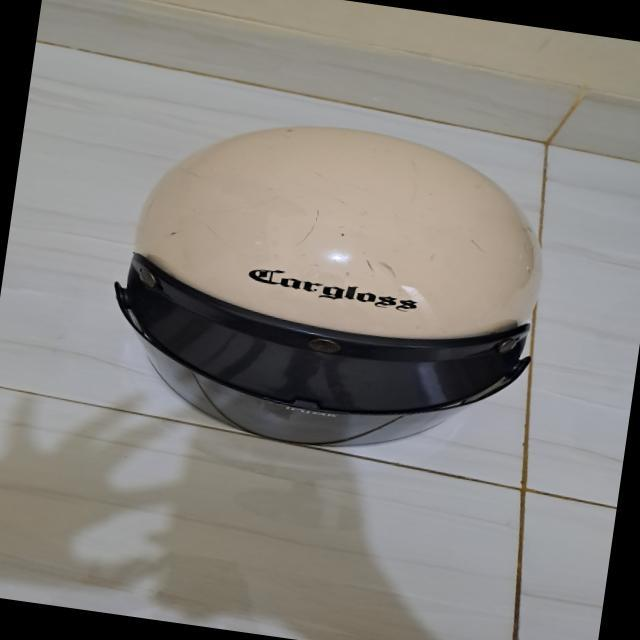Helm: (86, 88, 578, 490)
